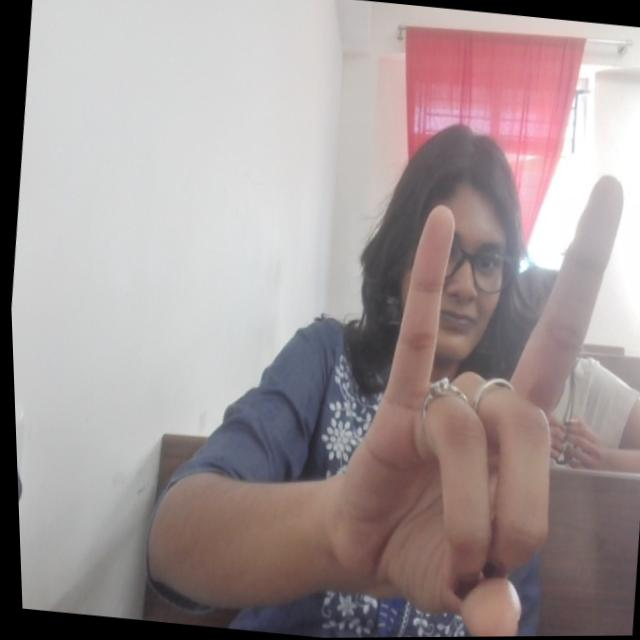iloveyou: (310, 148, 640, 638)
